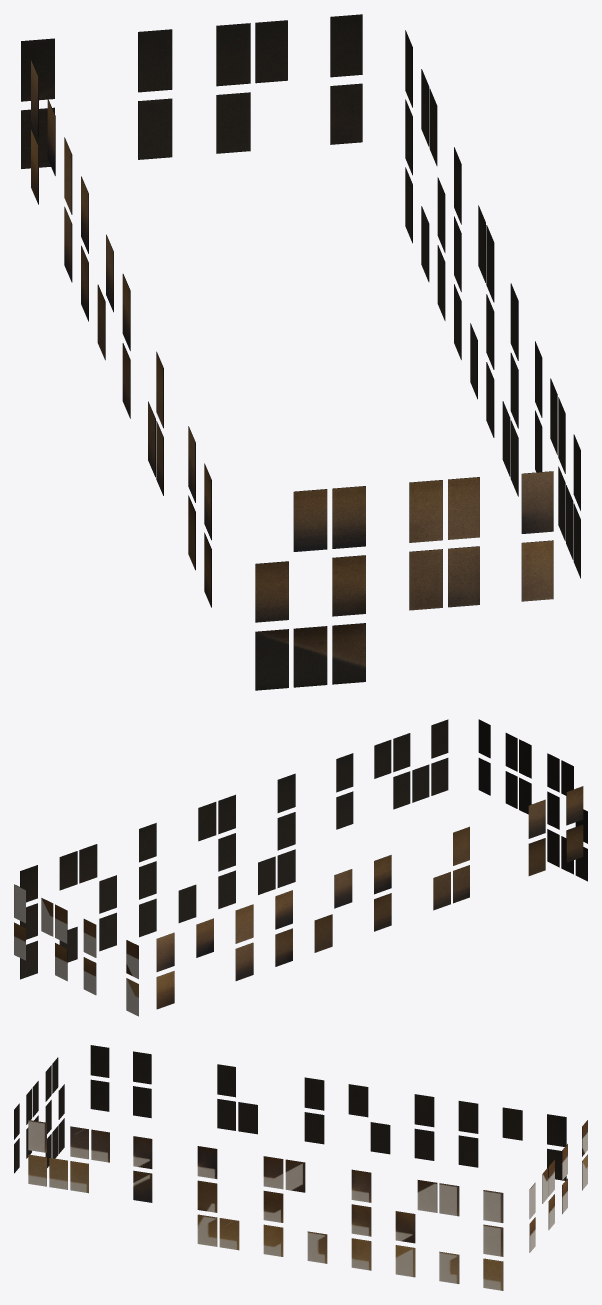
The model's file is Building_05_Glass.fbx.
3 renders of one model, top to bottom at view 1: azimuth 30°, elevation 25°; view 2: azimuth 150°, elevation 25°; view 3: azimuth 270°, elevation 25°, orthographic. The views are drawn at different scales.
Visible parts, largest first — view 1: Building_05_Glass; view 2: Building_05_Glass; view 3: Building_05_Glass.
Part boxes in pixels (left/top/right/bottom): Building_05_Glass: left=21, top=14, right=580, bottom=690; Building_05_Glass: left=14, top=719, right=587, bottom=1016; Building_05_Glass: left=14, top=1045, right=587, bottom=1290.
Bounding box in the file's own units: 27.68 × 8.54 × 45.35.
Materials: 1 (1 with a texture image).
